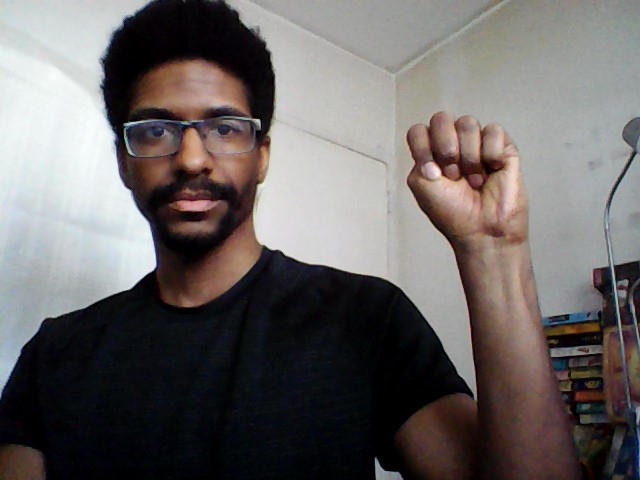m: (404, 108, 538, 244)
